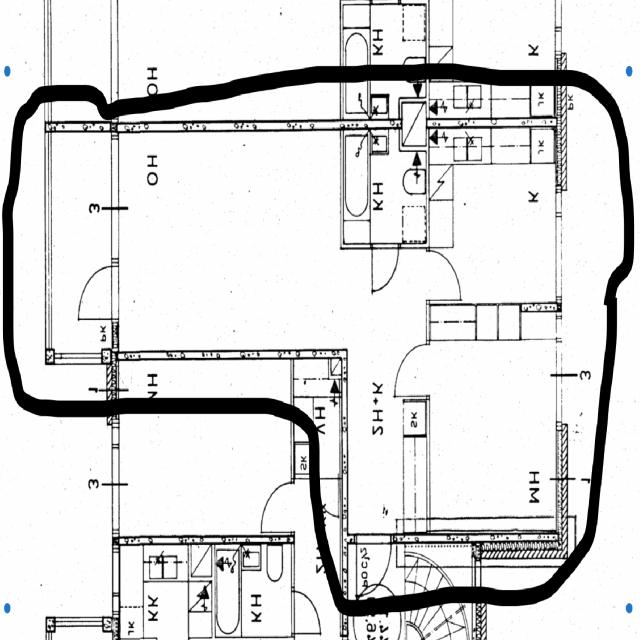door: (78, 267, 120, 318), (357, 534, 390, 595), (393, 344, 429, 396), (426, 251, 460, 300), (372, 243, 399, 291)
